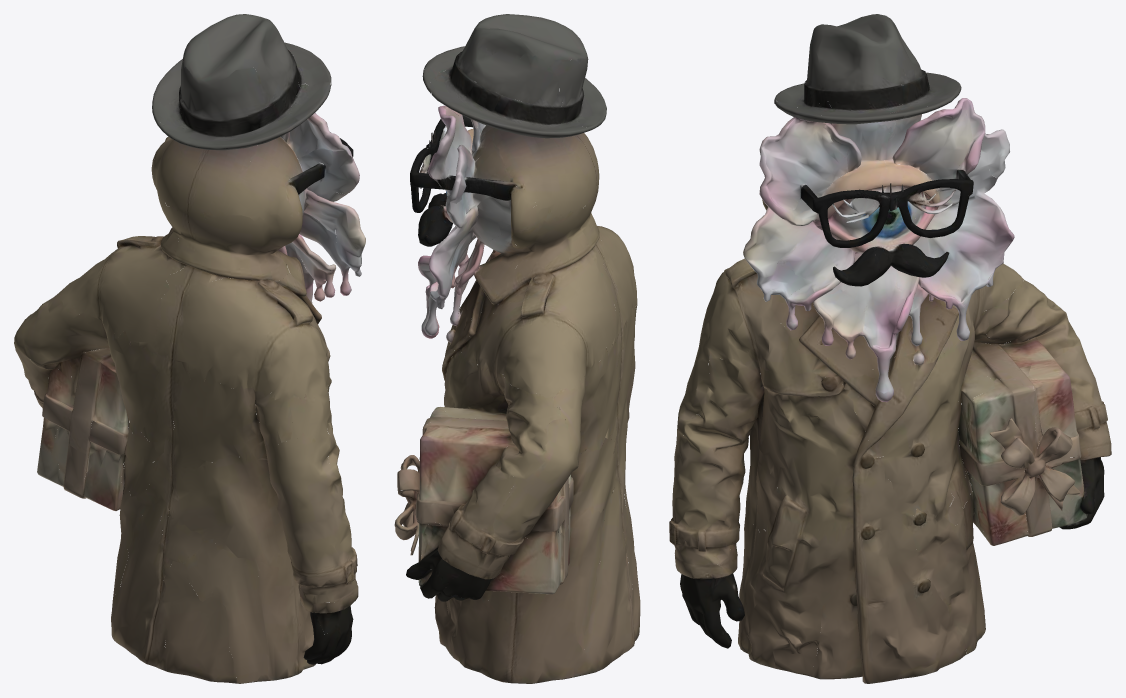
File: hijacker.glb
The picture shows the model from 3 angles, left to right: view 1: azimuth 30°, elevation 25°; view 2: azimuth 150°, elevation 25°; view 3: azimuth 270°, elevation 25°; orthographic projection. The views are drawn at different scales.
Visible parts, largest first — view 1: tripo_node_6c9e7786-09e2-4361-ba30-561dc8103b30; view 2: tripo_node_6c9e7786-09e2-4361-ba30-561dc8103b30; view 3: tripo_node_6c9e7786-09e2-4361-ba30-561dc8103b30.
Part boxes in pixels (x1=…): tripo_node_6c9e7786-09e2-4361-ba30-561dc8103b30: x1=14, y1=14, x2=365, y2=683; tripo_node_6c9e7786-09e2-4361-ba30-561dc8103b30: x1=394, y1=14, x2=640, y2=683; tripo_node_6c9e7786-09e2-4361-ba30-561dc8103b30: x1=669, y1=14, x2=1111, y2=683.
Bounding box in the file's own units: 0.3965 × 1 × 0.6394.
Materials: 1 (1 with a texture image).
